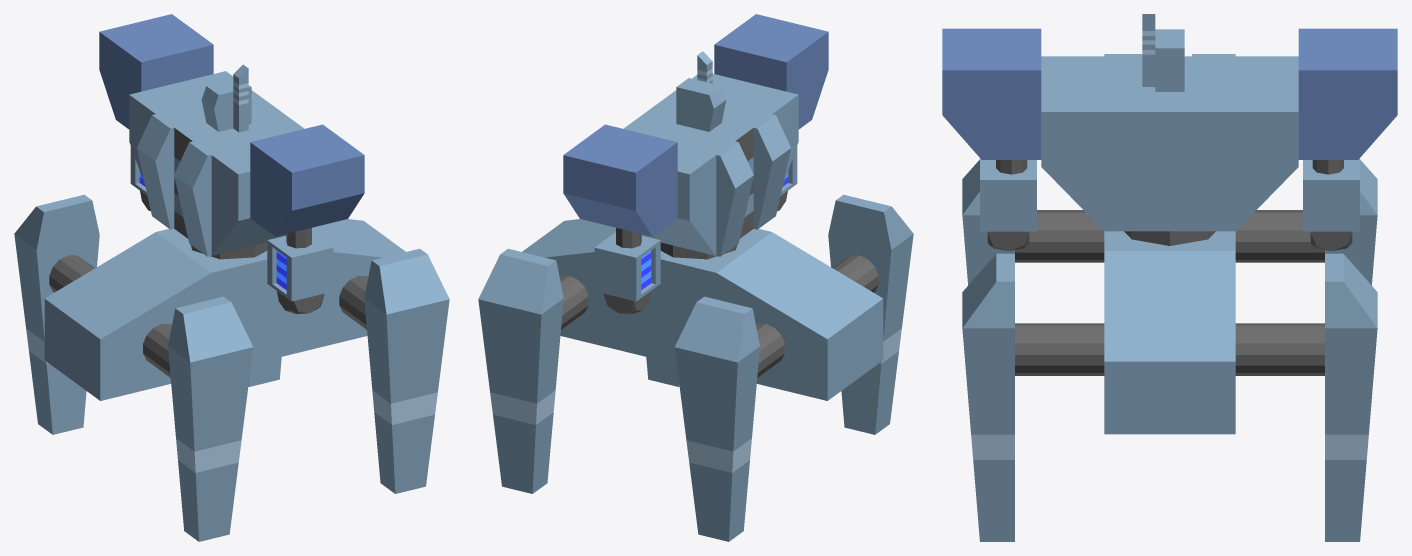
File: coloso de ataque (robot-gris).fbx
The picture shows the model from 3 angles, left to right: view 1: azimuth 30°, elevation 25°; view 2: azimuth 150°, elevation 25°; view 3: azimuth 270°, elevation 25°; orthographic projection. The views are drawn at different scales.
Parts seen in each view (by area): view 1: destructor inexorable; view 2: destructor inexorable; view 3: destructor inexorable.
Boxes of the visible parts, x1,y1,x2,y2 form: destructor inexorable: (14,14,449,541); destructor inexorable: (478,14,913,541); destructor inexorable: (942,14,1397,541).
Bounding box in the file's own units: 660 × 780 × 692.
